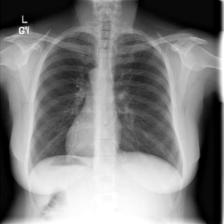normal: (25, 25, 186, 180)
